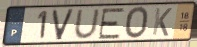1: (36, 10, 48, 41)
E: (97, 7, 127, 41)
K: (151, 7, 174, 38)
O: (124, 6, 151, 41)
U: (73, 8, 102, 41)
V: (51, 8, 76, 42)
